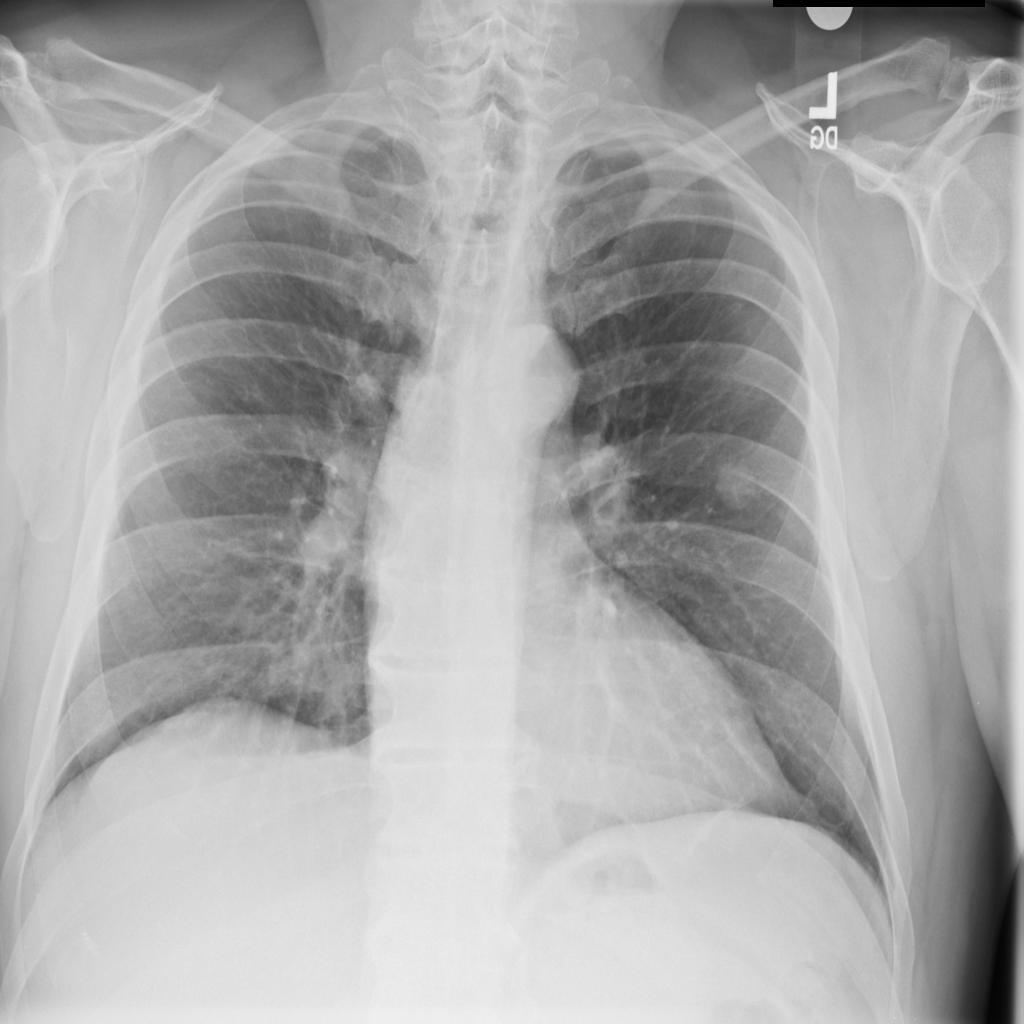nodule: (703, 444, 777, 526)
